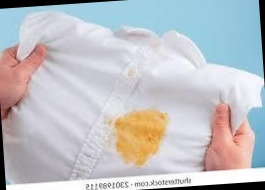mustard: (112, 109, 171, 166)
